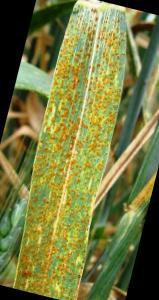Wheat: (35, 109, 108, 204), (59, 7, 125, 102), (23, 206, 85, 289)
